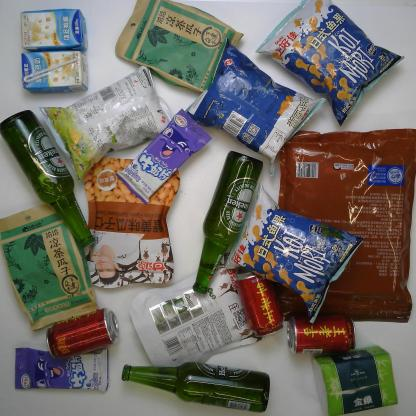Alcohol: (1, 108, 98, 251), (192, 148, 264, 297), (120, 361, 272, 414)
Candy: (112, 106, 214, 206), (12, 345, 110, 396)
Dried Food: (277, 123, 413, 326), (2, 202, 100, 334), (113, 2, 246, 96)
Dried Fruit: (128, 248, 269, 373), (82, 154, 181, 289)
Drink: (44, 306, 122, 360), (233, 267, 286, 340), (284, 310, 360, 358)
Milk: (19, 49, 90, 95), (19, 7, 90, 52)
Puffed Food: (183, 34, 327, 179), (223, 182, 366, 325), (254, 2, 407, 128), (36, 64, 178, 184)
Tissue: (309, 343, 399, 415)
